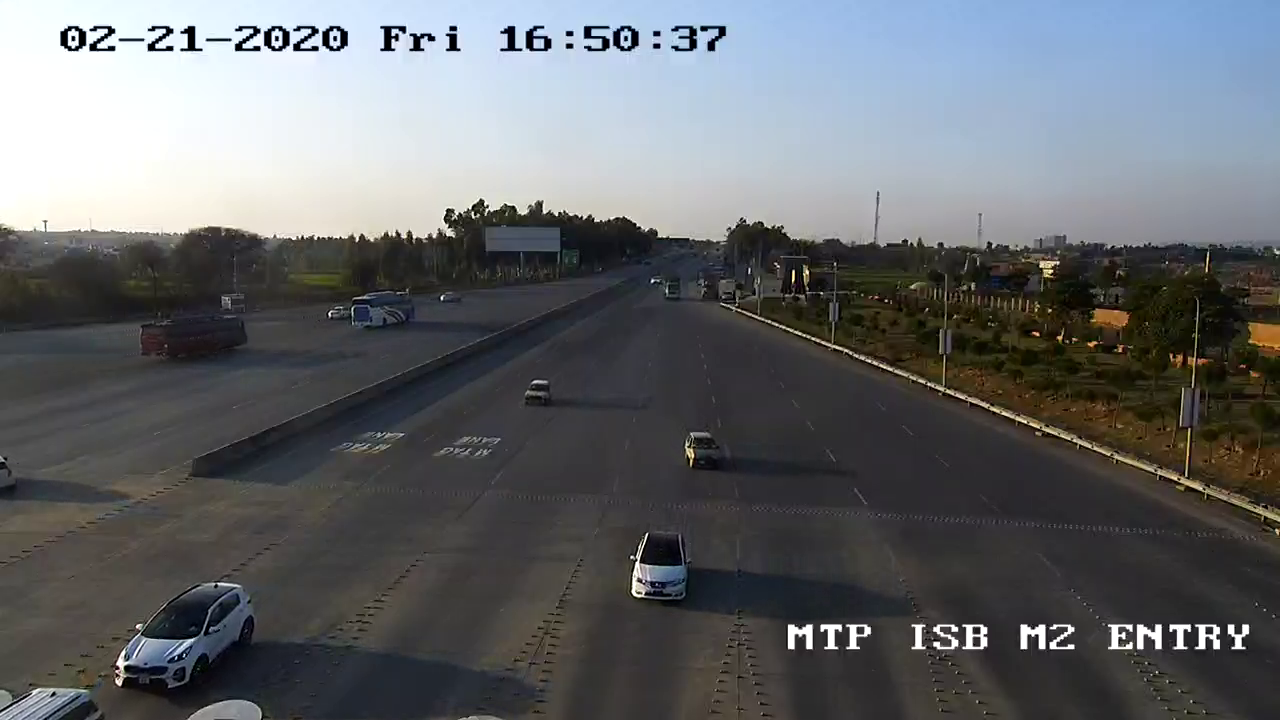f1: (103, 574, 265, 701), (619, 526, 696, 612), (674, 423, 725, 475)
